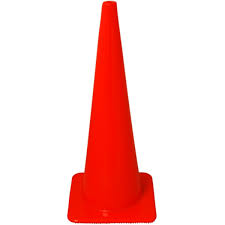cones: (66, 2, 159, 225)
